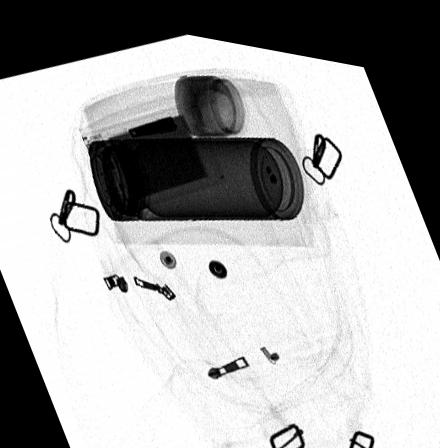Powerbank: (81, 95, 225, 215)
